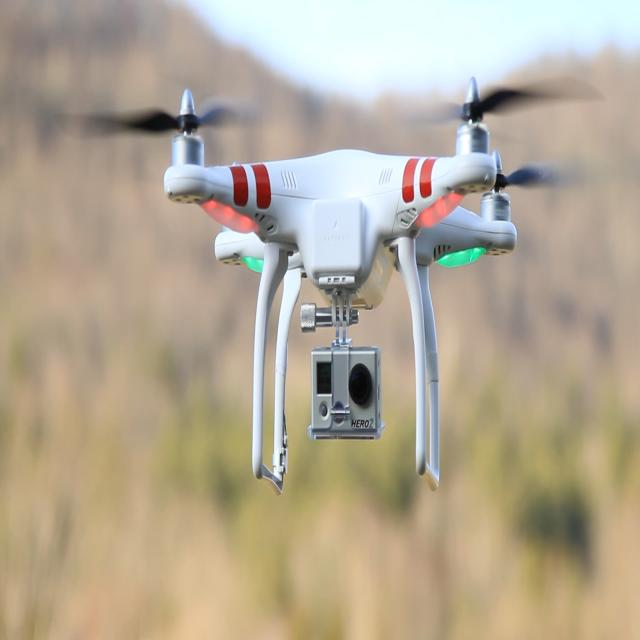Drone_FW: (53, 74, 606, 496)
